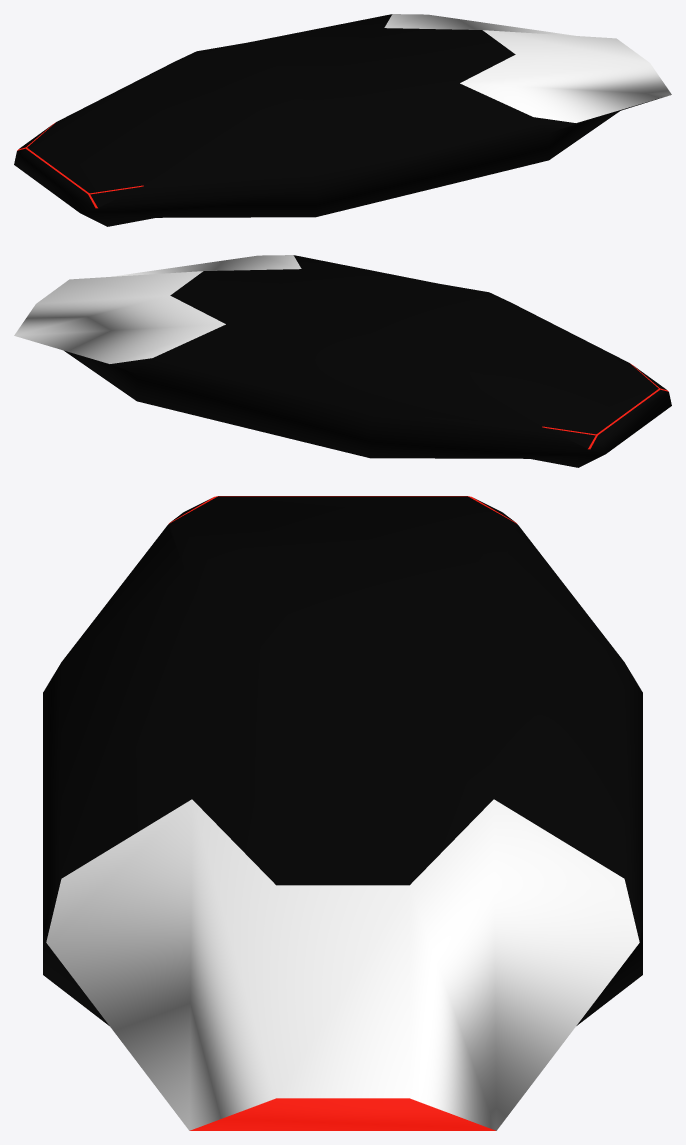
File: RoverChassis3.glb
3 views of the same model, one above another, from view 1: azimuth 30°, elevation 25°; view 2: azimuth 150°, elevation 25°; view 3: azimuth 270°, elevation 25° (orthographic). The views are drawn at different scales.
Visible parts, largest first — view 1: Cube; view 2: Cube; view 3: Cube.
Part boxes in pixels (left/top/right/bottom): Cube: left=14, top=14, right=671, bottom=226; Cube: left=14, top=255, right=671, bottom=467; Cube: left=43, top=496, right=642, bottom=1130.
Size of the model in its own units: 17 by 2.67 by 7.53.
